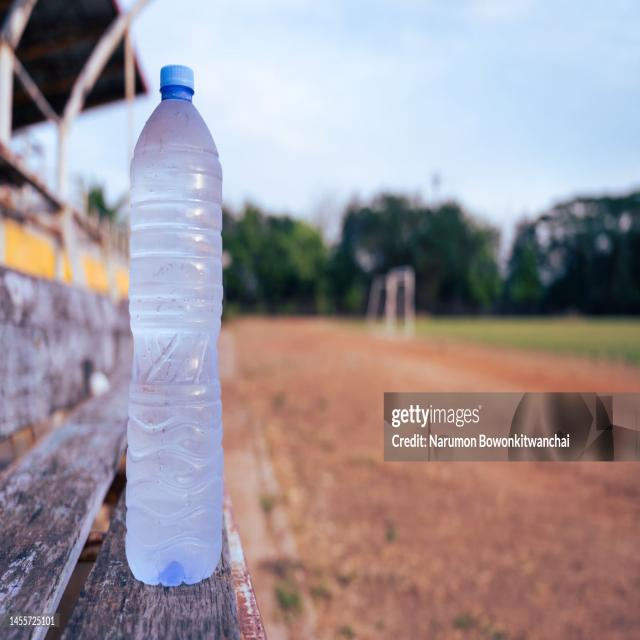bottle: (126, 50, 229, 586)
